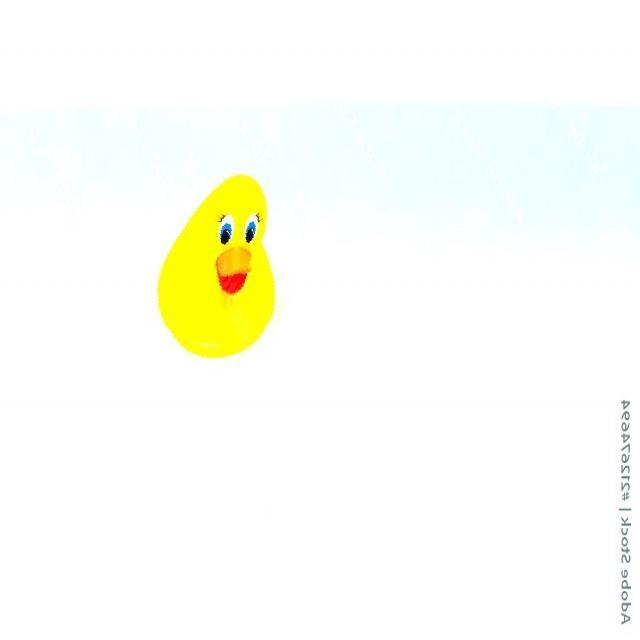rubber-duck: (157, 174, 273, 355)
